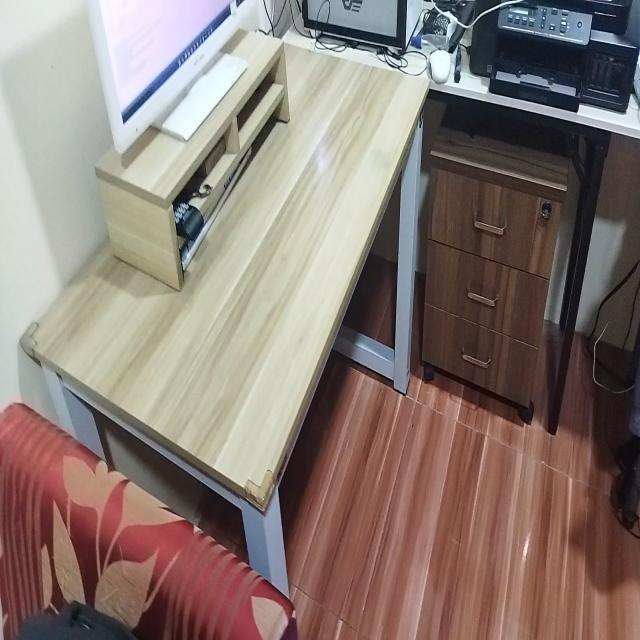table: (31, 34, 408, 581)
